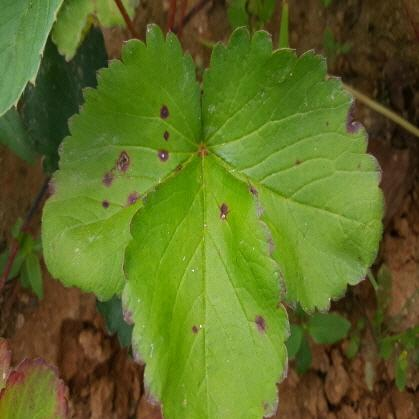Leaf Spot: (200, 24, 388, 318), (122, 144, 291, 418), (41, 21, 202, 303)
